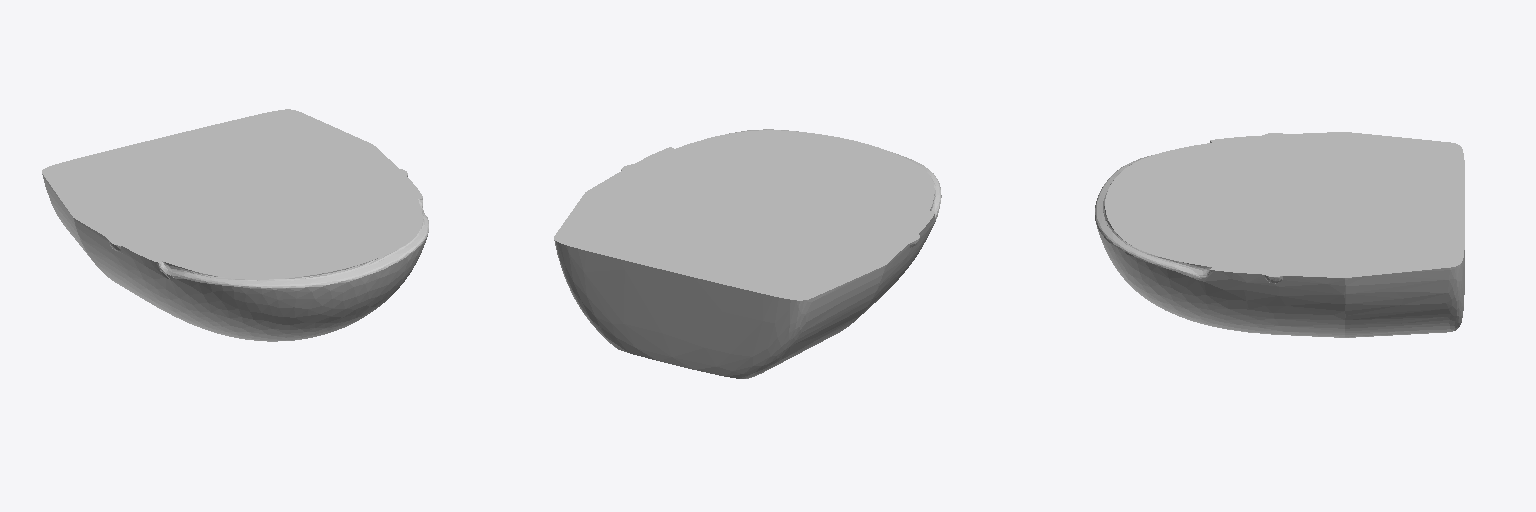
The model's file is Otomo_Bottom.obj.
The picture shows the model from 3 angles: view 1: azimuth 30°, elevation 25°; view 2: azimuth 150°, elevation 25°; view 3: azimuth 270°, elevation 25°; orthographic projection.
Visible parts, largest first — view 1: Otamatone_Static_Model.001; view 2: Otamatone_Static_Model.001; view 3: Otamatone_Static_Model.001.
Part boxes in pixels (x1,y1,x2,y2): Otamatone_Static_Model.001: (42, 109, 428, 341); Otamatone_Static_Model.001: (554, 129, 941, 378); Otamatone_Static_Model.001: (1095, 132, 1464, 337).
Bounding box in the file's own units: 2.16 × 0.7019 × 2.31.